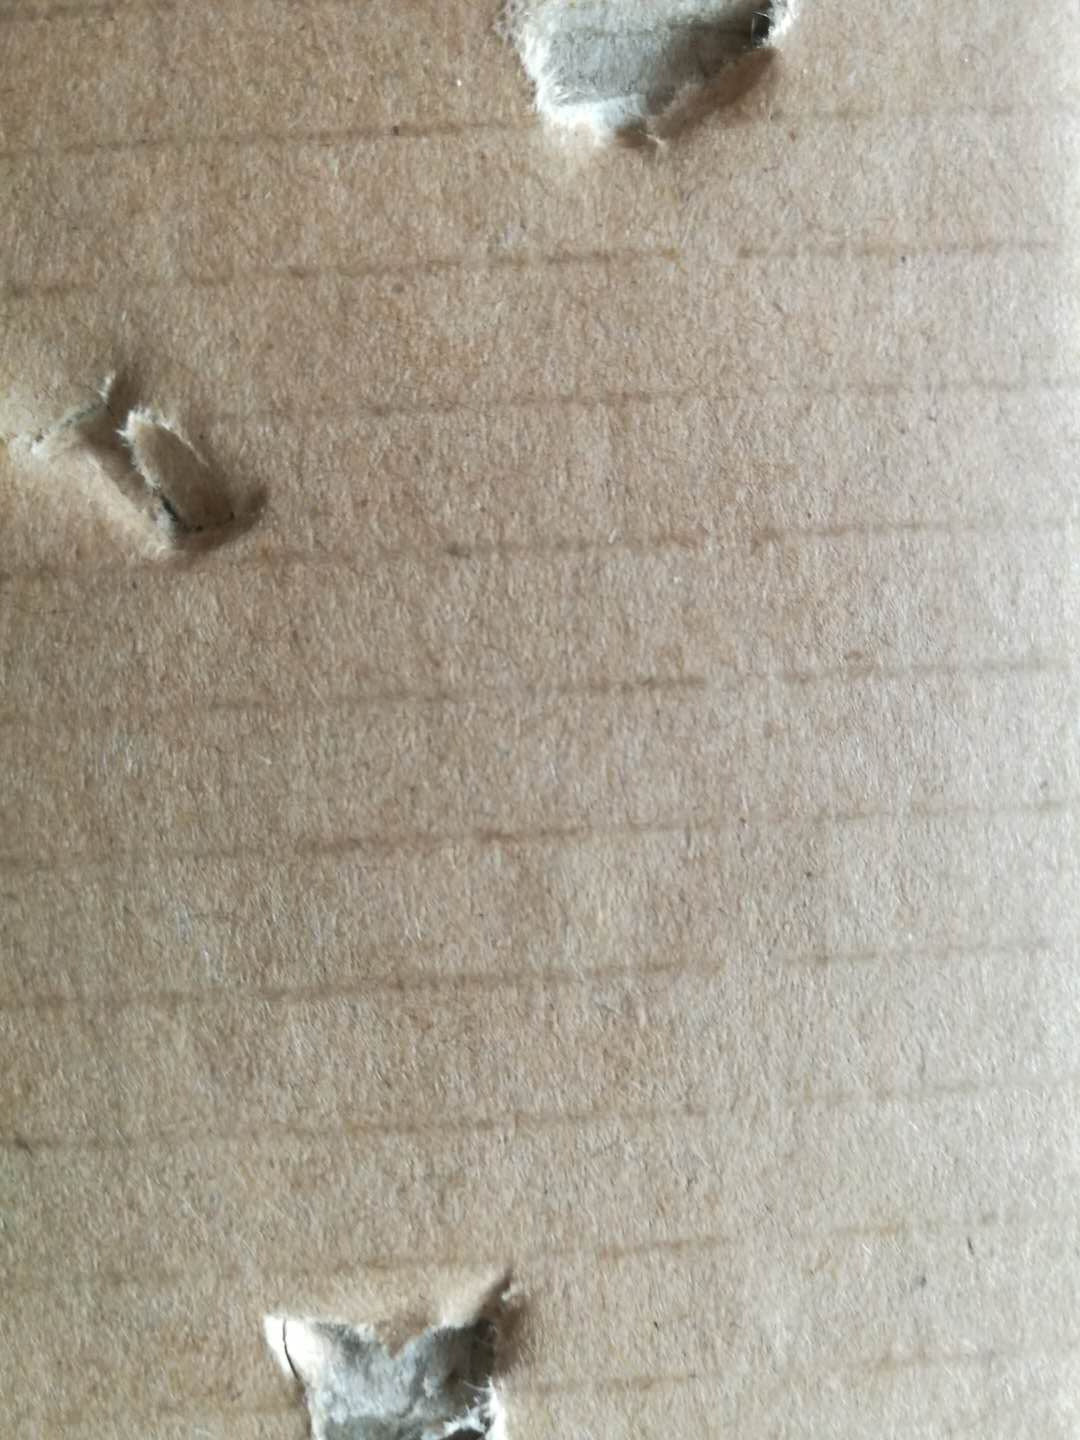defect: (5, 276, 302, 607), (214, 1233, 567, 1440), (469, 1, 826, 181)
